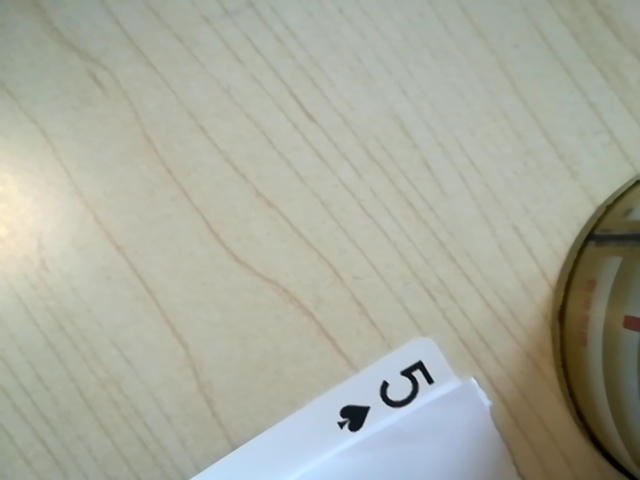ht 5: (319, 354, 460, 440)
